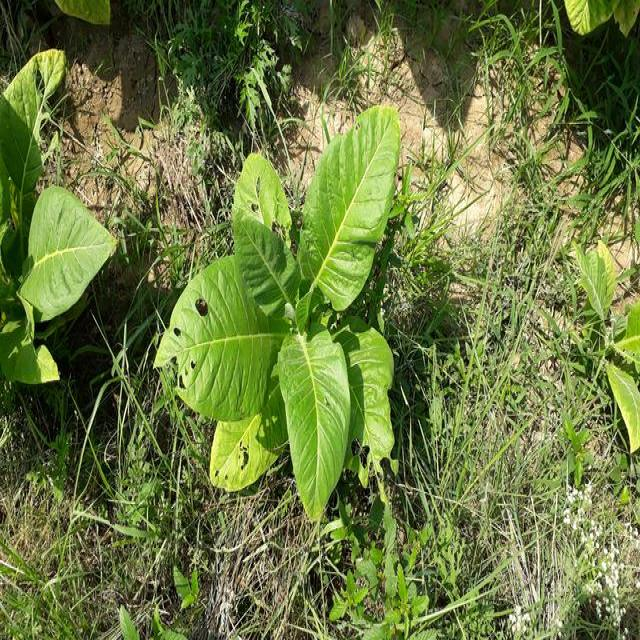crop: (178, 109, 400, 512), (0, 55, 116, 402)
